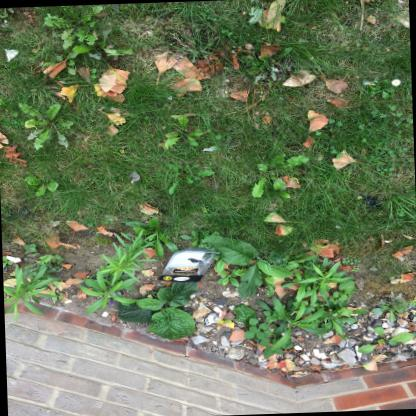Plastic: (158, 251, 219, 282), (128, 170, 139, 182)
Waste: (158, 247, 219, 282), (4, 48, 17, 62)
